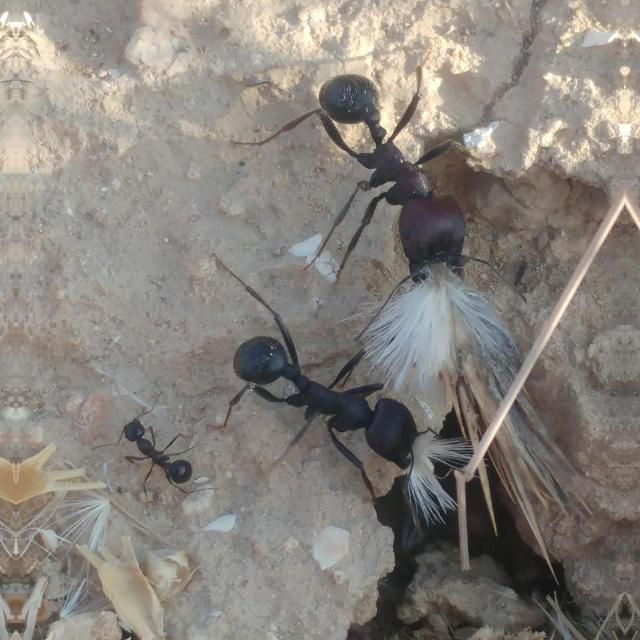Messor: (309, 70, 491, 288), (222, 303, 428, 481), (100, 378, 210, 497)
